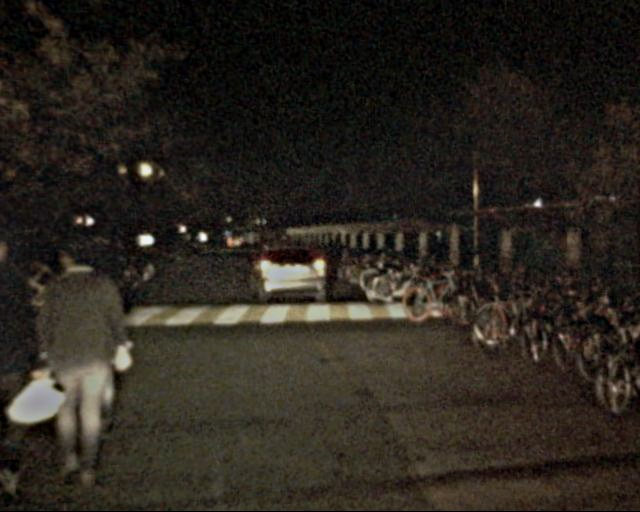person: (48, 226, 129, 473), (2, 220, 39, 486)
